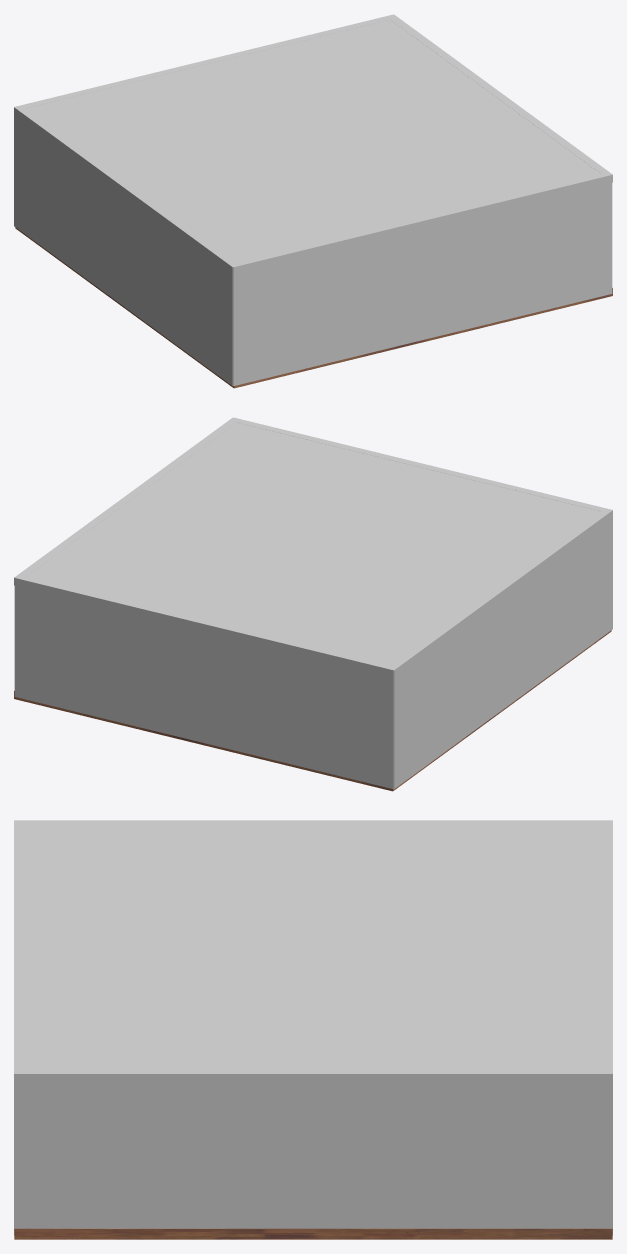
Rendered from shiyan.gltf.
3 views of the same model, one above another, from view 1: azimuth 30°, elevation 25°; view 2: azimuth 150°, elevation 25°; view 3: azimuth 270°, elevation 25° (orthographic). The views are drawn at different scales.
Parts seen in each view (by area): view 1: 立方体.7, 立方体.3, 立方体.1, 立方体.4, 立方体.2, 立方体; view 2: 立方体.7, 立方体.4, 立方体.1, 立方体.3, 立方体.2, 立方体; view 3: 立方体.7, 立方体.2, 立方体, 立方体.1, 立方体.4, 立方体.3.
Part boxes in pixels (x1,y1,x2,y2): 立方体.7: [26, 14, 612, 262]; 立方体.3: [229, 171, 612, 386]; 立方体.1: [14, 105, 238, 385]; 立方体.4: [15, 15, 396, 108]; 立方体.2: [386, 14, 611, 174]; 立方体: [15, 227, 612, 388]; 立方体.7: [14, 417, 600, 665]; 立方体.4: [14, 574, 397, 789]; 立方体.1: [387, 508, 612, 788]; 立方体.3: [230, 418, 610, 511]; 立方体.2: [15, 417, 240, 577]; 立方体: [14, 630, 611, 791]; 立方体.7: [14, 825, 612, 1084]; 立方体.2: [14, 1068, 612, 1228]; 立方体: [14, 1228, 612, 1239]; 立方体.1: [14, 820, 612, 825]; 立方体.4: [601, 820, 612, 1235]; 立方体.3: [14, 820, 25, 1235].
Bounding box in the file's own units: 1003 × 306 × 1001.
3 materials, 2 textured.
